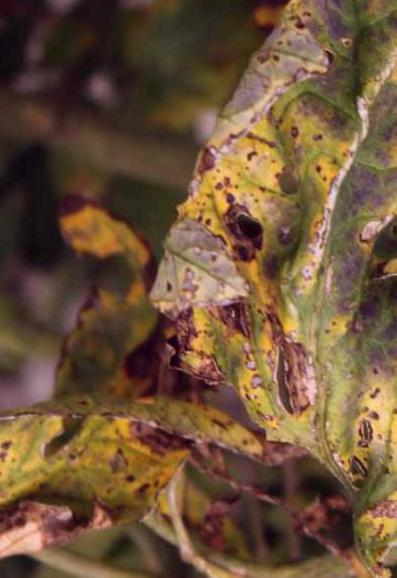Tomato Septoria leaf spot: (146, 0, 397, 559), (0, 394, 232, 564)
